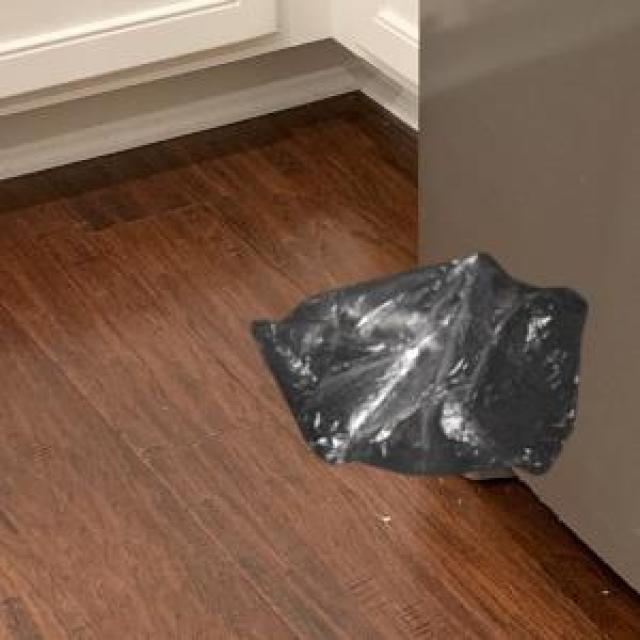waste: (252, 254, 586, 474)
